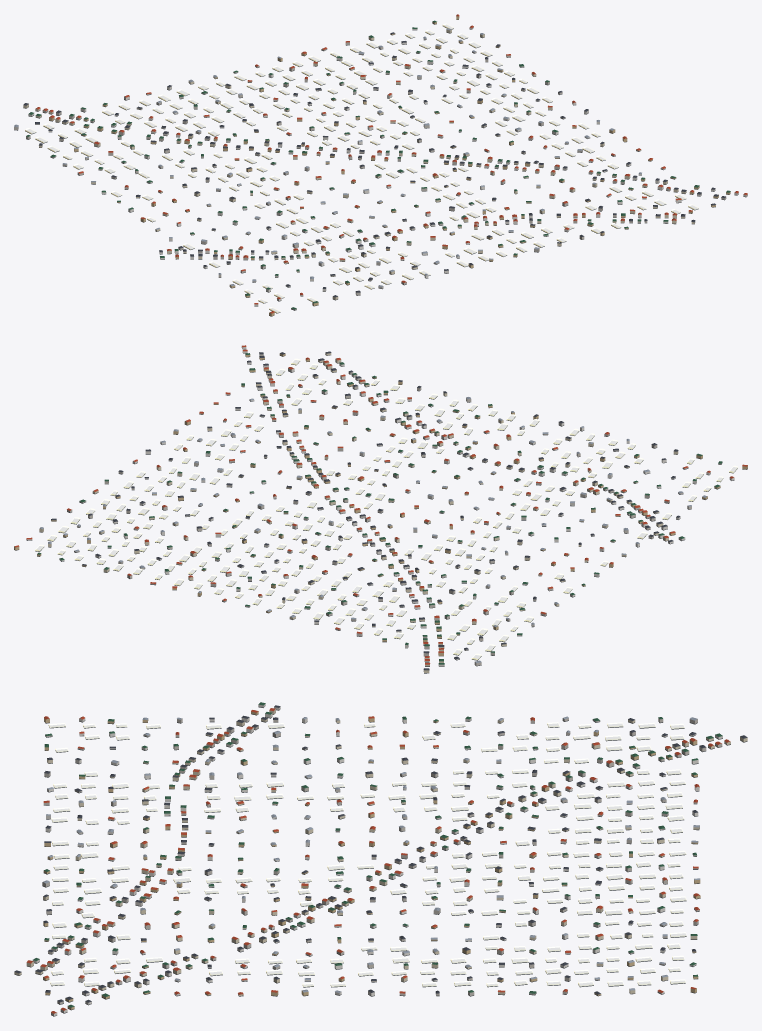
The model's file is buildings_T_E05_S02.glb.
The picture shows the model from 3 angles, top to bottom: view 1: azimuth 30°, elevation 25°; view 2: azimuth 150°, elevation 25°; view 3: azimuth 270°, elevation 25°; orthographic projection. The views are drawn at different scales.
Visible parts, largest first — view 1: T_E05_S02_roofs_agri_greenhouse_arch, T_E05_S02_slope_seating_foundations, T_E05_S02_walls_wall_dalat_cream_stucco, T_E05_S02_walls_wall_pastel_sand_gray, T_E05_S02_roofs_roof_slate_French_villa_hip, T_E05_S02_walls_wall_modern_warm_white, T_E05_S02_roofs_roof_terracotta_gable, T_E05_S02_walls_wall_french_ochre_villa, T_E05_S02_roofs_roof_pine_green_hip, T_E05_S02_roofs_roof_zinc_silver_gable; view 2: T_E05_S02_roofs_agri_greenhouse_arch, T_E05_S02_slope_seating_foundations, T_E05_S02_walls_wall_dalat_cream_stucco, T_E05_S02_walls_wall_pastel_sand_gray, T_E05_S02_walls_wall_modern_warm_white, T_E05_S02_roofs_roof_slate_French_villa_hip, T_E05_S02_roofs_roof_terracotta_gable, T_E05_S02_walls_wall_french_ochre_villa, T_E05_S02_roofs_roof_pine_green_hip, T_E05_S02_roofs_roof_zinc_silver_gable; view 3: T_E05_S02_roofs_agri_greenhouse_arch, T_E05_S02_slope_seating_foundations, T_E05_S02_walls_wall_dalat_cream_stucco, T_E05_S02_walls_wall_pastel_sand_gray, T_E05_S02_walls_wall_modern_warm_white, T_E05_S02_roofs_roof_slate_French_villa_hip, T_E05_S02_roofs_roof_terracotta_gable, T_E05_S02_walls_wall_french_ochre_villa, T_E05_S02_roofs_roof_pine_green_hip, T_E05_S02_roofs_roof_zinc_silver_gable.
Part boxes in pixels (x1,y1,x2,y2): T_E05_S02_roofs_agri_greenhouse_arch: (25, 23, 698, 313); T_E05_S02_slope_seating_foundations: (14, 19, 747, 316); T_E05_S02_walls_wall_dalat_cream_stucco: (23, 29, 695, 299); T_E05_S02_walls_wall_pastel_sand_gray: (14, 38, 726, 310); T_E05_S02_roofs_roof_slate_French_villa_hip: (23, 32, 725, 297); T_E05_S02_walls_wall_modern_warm_white: (28, 27, 747, 306); T_E05_S02_roofs_roof_terracotta_gable: (35, 14, 747, 313); T_E05_S02_walls_wall_french_ochre_villa: (49, 16, 730, 316); T_E05_S02_roofs_roof_pine_green_hip: (26, 20, 730, 309); T_E05_S02_roofs_roof_zinc_silver_gable: (14, 28, 641, 286); T_E05_S02_roofs_agri_greenhouse_arch: (35, 358, 737, 659); T_E05_S02_slope_seating_foundations: (14, 349, 747, 673); T_E05_S02_walls_wall_dalat_cream_stucco: (39, 353, 678, 672); T_E05_S02_walls_wall_pastel_sand_gray: (67, 354, 722, 665); T_E05_S02_walls_wall_modern_warm_white: (26, 346, 734, 666); T_E05_S02_roofs_roof_slate_French_villa_hip: (51, 351, 680, 670); T_E05_S02_roofs_roof_terracotta_gable: (15, 345, 747, 664); T_E05_S02_walls_wall_french_ochre_villa: (14, 353, 747, 655); T_E05_S02_roofs_roof_pine_green_hip: (37, 353, 722, 664); T_E05_S02_roofs_roof_zinc_silver_gable: (39, 397, 707, 663); T_E05_S02_roofs_agri_greenhouse_arch: (48, 722, 686, 986); T_E05_S02_slope_seating_foundations: (14, 706, 747, 1016); T_E05_S02_walls_wall_dalat_cream_stucco: (14, 709, 747, 995); T_E05_S02_walls_wall_pastel_sand_gray: (42, 718, 722, 1004); T_E05_S02_walls_wall_modern_warm_white: (32, 704, 722, 1015); T_E05_S02_roofs_roof_slate_French_villa_hip: (14, 705, 747, 1002); T_E05_S02_roofs_roof_terracotta_gable: (26, 708, 730, 1013); T_E05_S02_walls_wall_french_ochre_villa: (43, 711, 700, 1009); T_E05_S02_roofs_roof_pine_green_hip: (33, 702, 722, 1007); T_E05_S02_roofs_roof_zinc_silver_gable: (42, 716, 700, 992).
Bounding box in the file's own units: 1967 × 26.41 × 1952.
